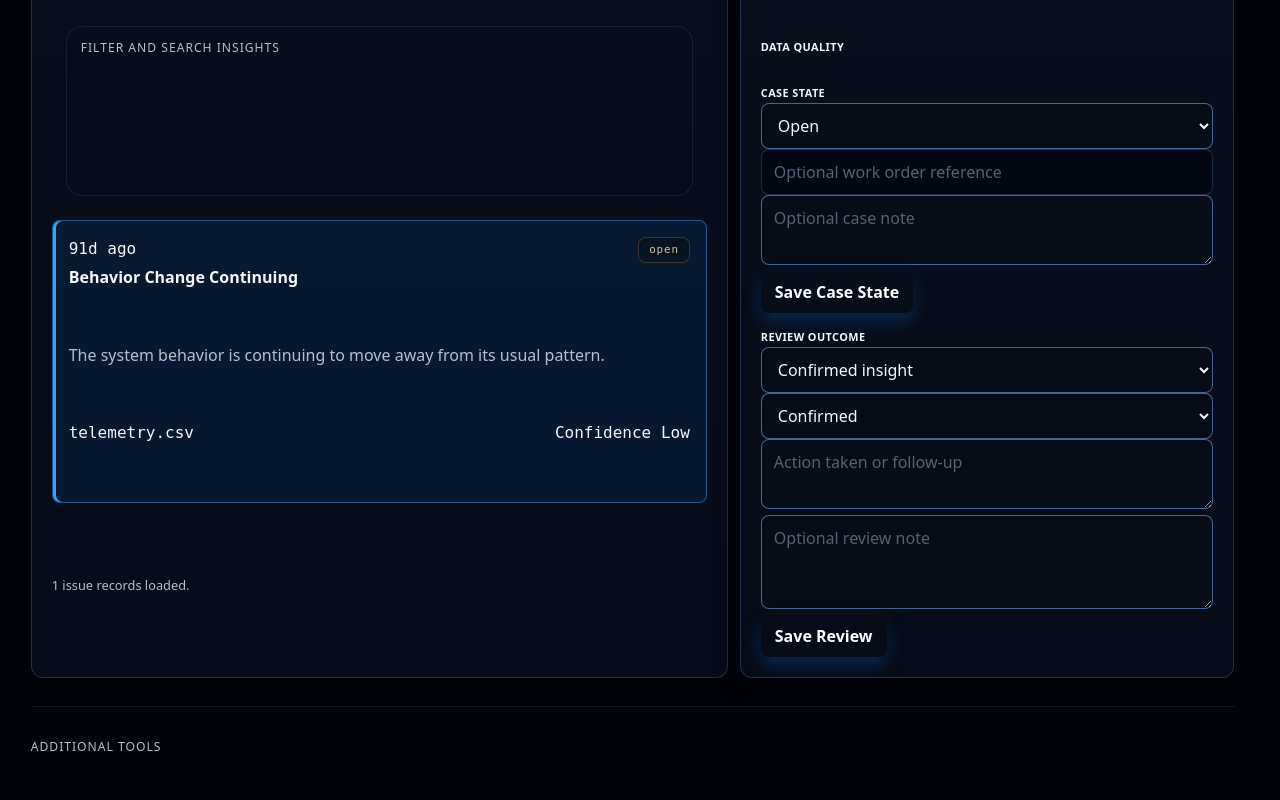
ObservationCenterWorkspace › downloads evidence through authenticated apiFetch rather than a new unauthenticated window
(page scrolled)
Click the heading "Additional tools" at (96, 747), box [31,738,161,755]
(page scrolled)
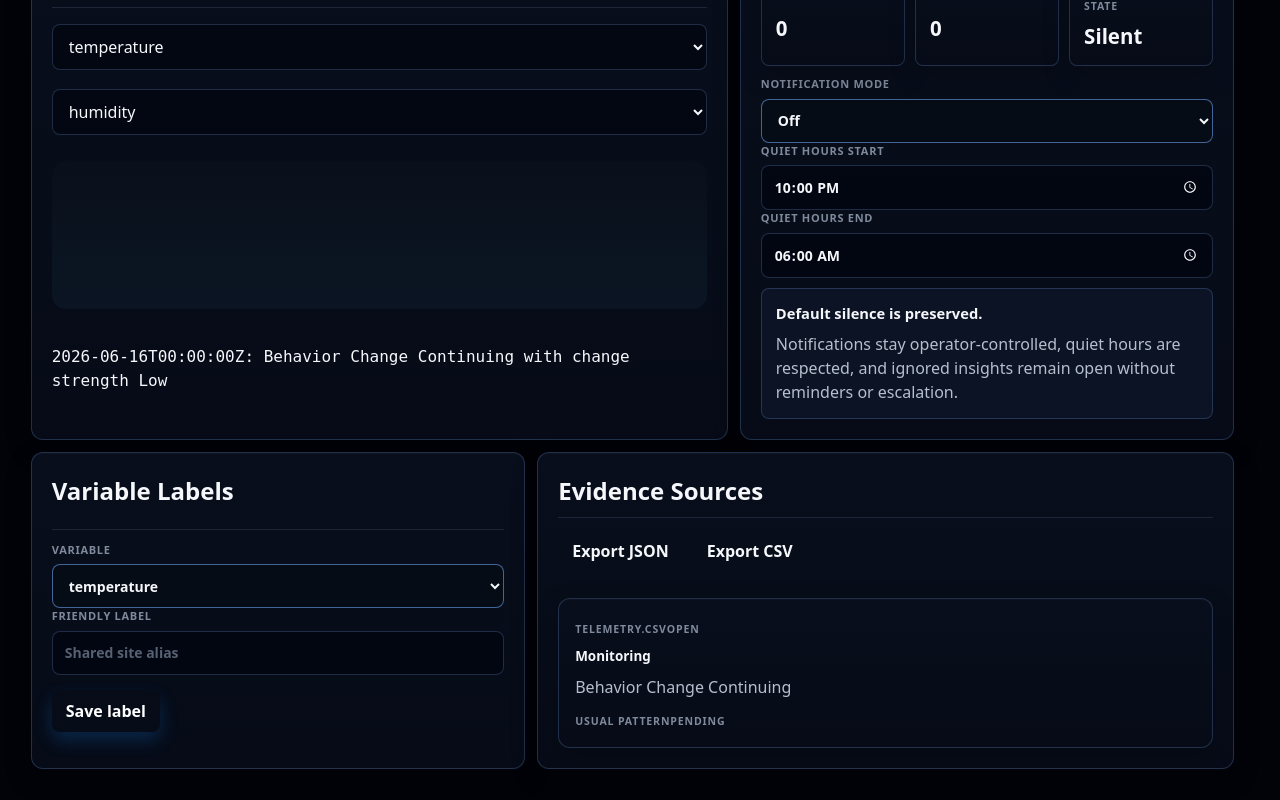
Click the button "Export JSON" at (620, 551), box [558,530,683,572]
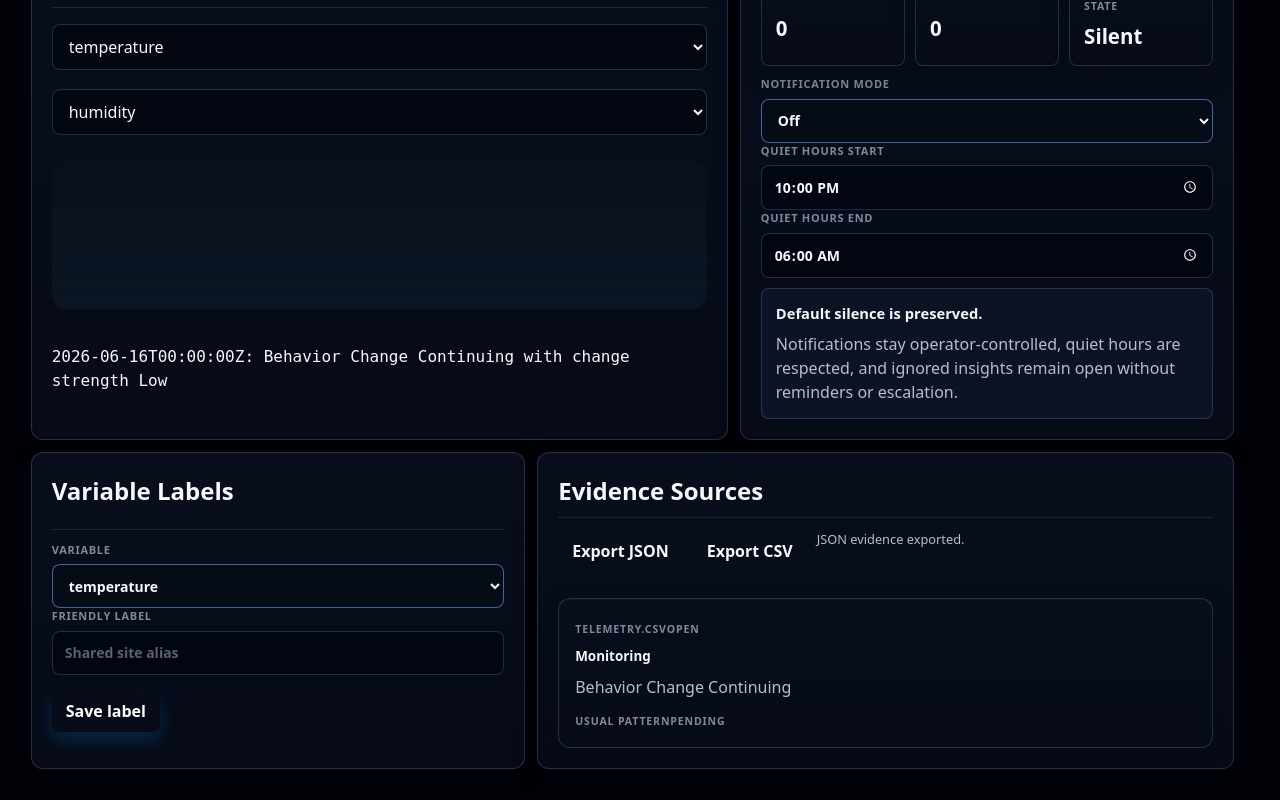
Expected: the text "JSON evidence exported." is shown, [817,530,964,548]
